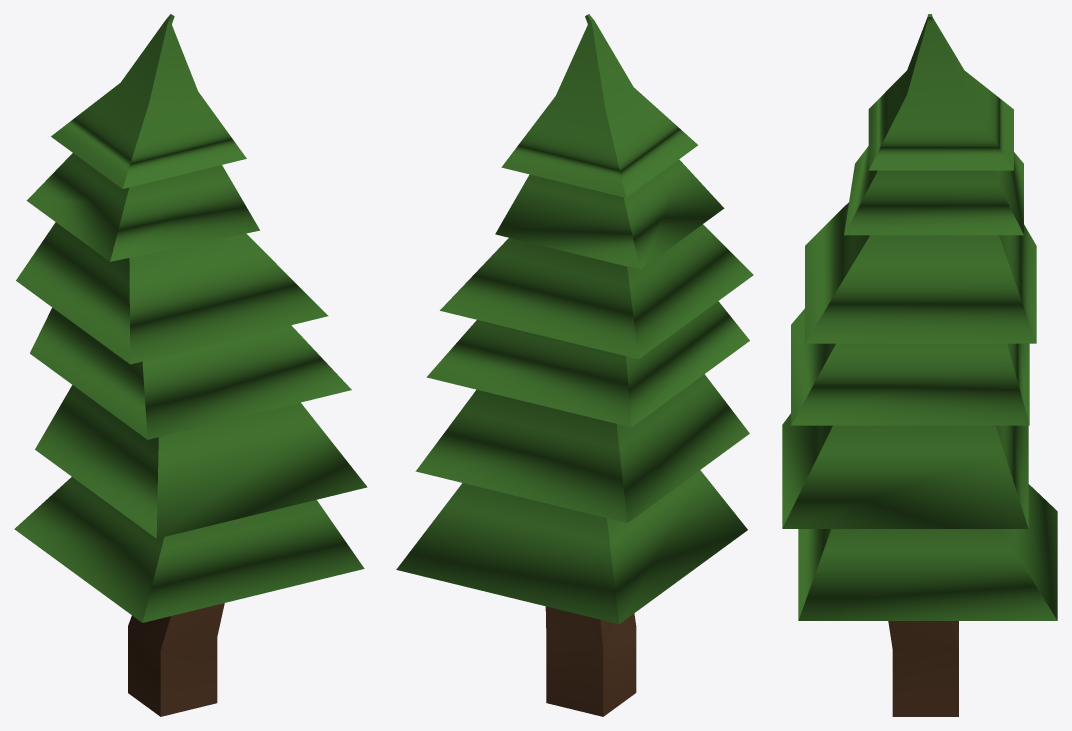
File: tree.fbx
3 views of the same model, side by side, from view 1: azimuth 30°, elevation 25°; view 2: azimuth 150°, elevation 25°; view 3: azimuth 270°, elevation 25° (orthographic).
Parts seen in each view (by area): view 1: pCube2, pCube1; view 2: pCube2, pCube1; view 3: pCube2, pCube1.
Boxes of the visible parts, box(x1,y1,x2,y2) form: pCube2: box(14, 14, 367, 622); pCube1: box(128, 603, 224, 716); pCube2: box(396, 14, 753, 624); pCube1: box(545, 606, 636, 716); pCube2: box(782, 14, 1057, 620); pCube1: box(888, 621, 958, 716).
Size of the model in its own units: 2.12 by 5.98 by 2.17.
